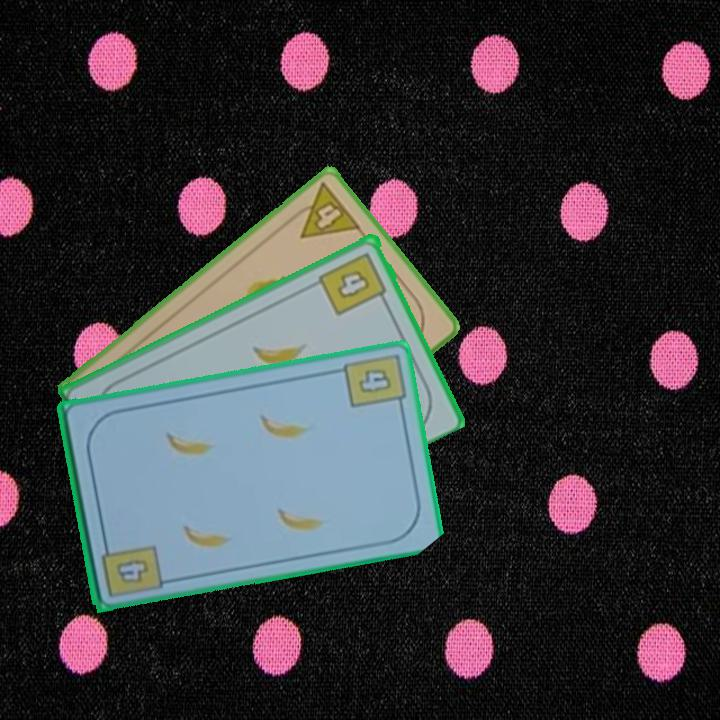4b: (315, 247, 391, 318), (339, 349, 407, 413), (112, 555, 152, 586)
4p: (284, 179, 364, 242)
